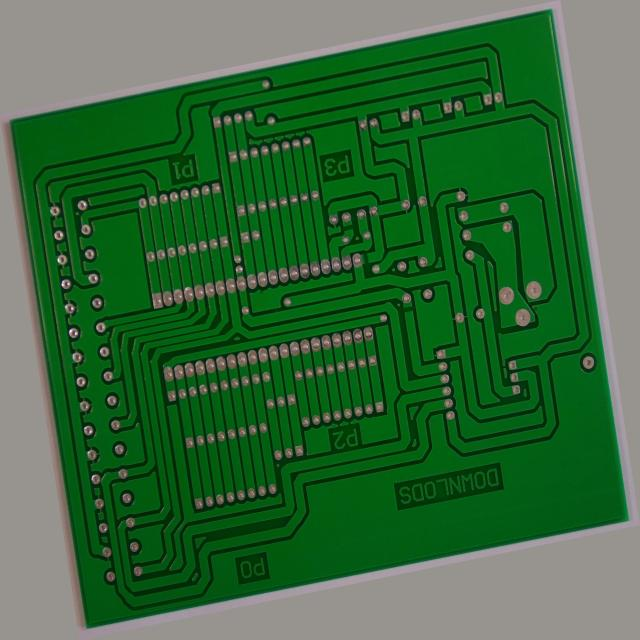open_circuit: (375, 248, 388, 269), (411, 321, 427, 338), (359, 211, 374, 226)
